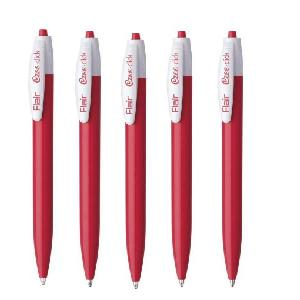pen: (164, 30, 202, 290), (117, 32, 155, 291), (215, 29, 251, 291), (73, 27, 108, 290), (24, 26, 58, 285)
